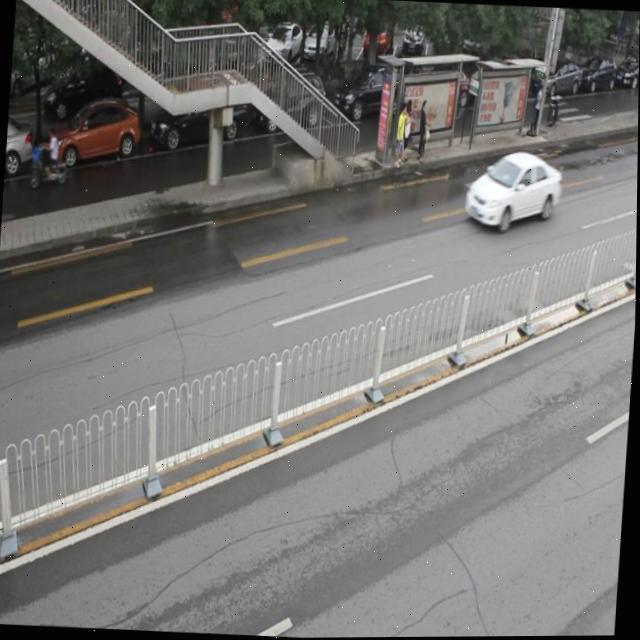car: (463, 151, 562, 234), (49, 97, 143, 169), (151, 88, 250, 152), (255, 73, 327, 136), (332, 62, 403, 124), (5, 116, 33, 183)
